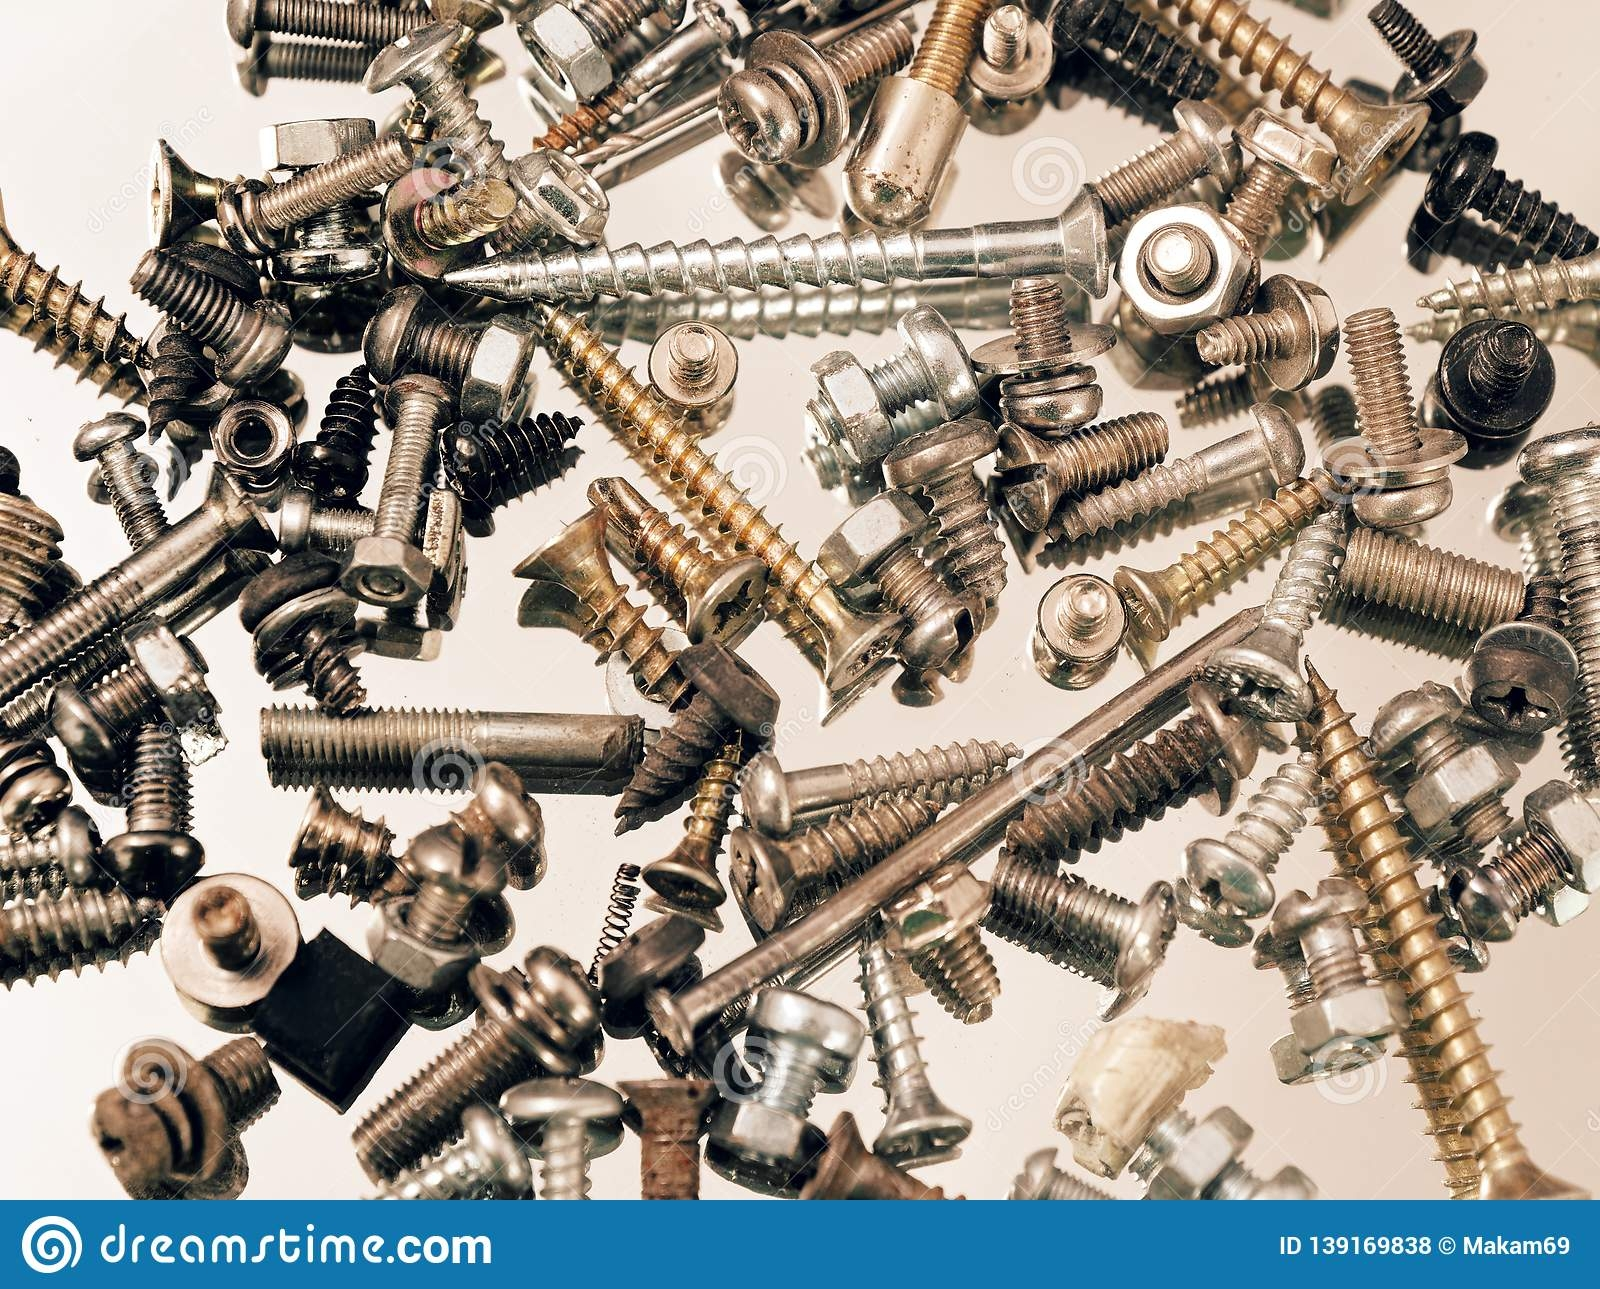metal: (505, 272, 929, 706), (1266, 654, 1589, 1196), (408, 176, 1146, 325), (1, 446, 291, 752), (337, 925, 621, 1193), (1148, 1, 1461, 216), (227, 672, 663, 812), (1056, 363, 1312, 570), (53, 1019, 337, 1202), (507, 495, 713, 733), (1179, 495, 1369, 727), (695, 1, 951, 174), (731, 709, 1037, 852), (836, 1, 1016, 245), (801, 477, 1008, 676), (1302, 299, 1483, 522), (603, 622, 780, 848), (137, 858, 333, 1047), (699, 983, 866, 1192), (972, 846, 1187, 1008), (983, 399, 1203, 550), (201, 120, 423, 268), (110, 235, 309, 395), (350, 13, 546, 174), (32, 612, 229, 764), (1252, 873, 1415, 1058), (49, 412, 231, 568), (1160, 742, 1332, 908), (1421, 118, 1600, 274), (87, 712, 209, 904), (482, 1067, 652, 1204), (1432, 306, 1565, 455), (1355, 1, 1504, 130), (1405, 235, 1600, 331), (619, 295, 765, 420), (502, 1, 684, 99), (611, 1061, 728, 1207), (940, 1, 1089, 107), (1031, 563, 1142, 664)
